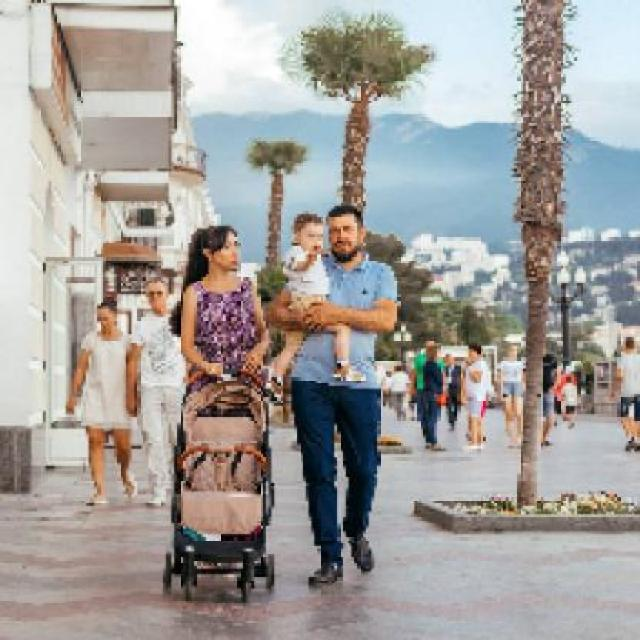child: (264, 207, 367, 404)
